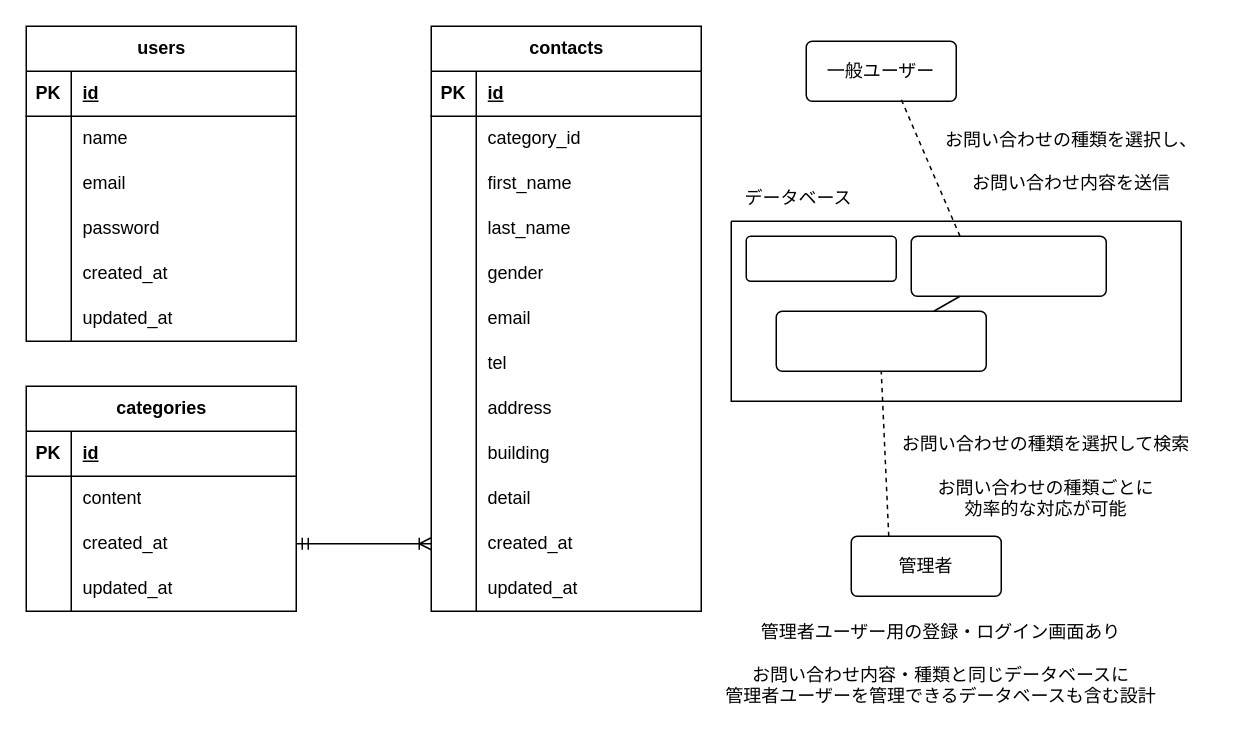
Image size: 1233x743. Some labels were removed from this diagram. The shapes that lost their labels are listed below. From the top down, each one's centre as x and y in pixels, then its label:
the point at 820,258: 管理者ユーザー
the point at 1008,265: お問い合わせ内容
the point at 880,340: お問い合わせの種類
